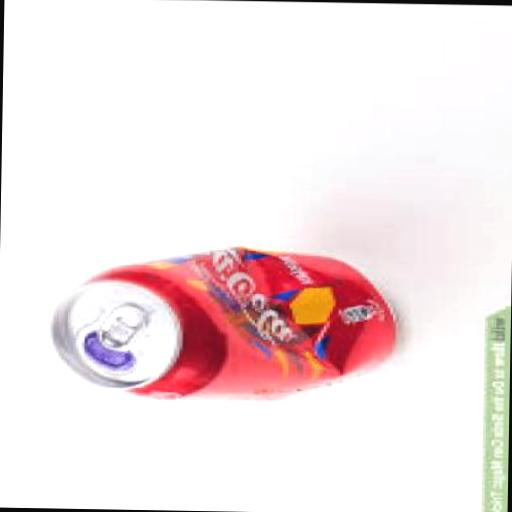metal: (50, 240, 400, 399)
